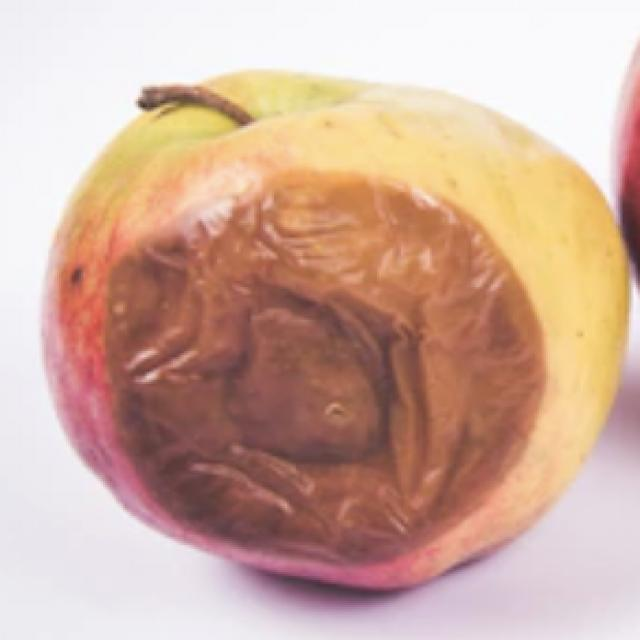rotten_apple: (43, 65, 633, 602)
